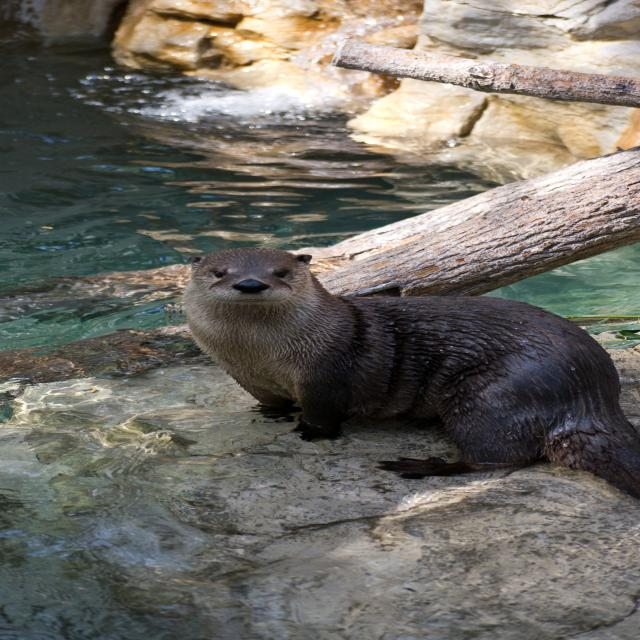otter: (184, 249, 640, 479)
